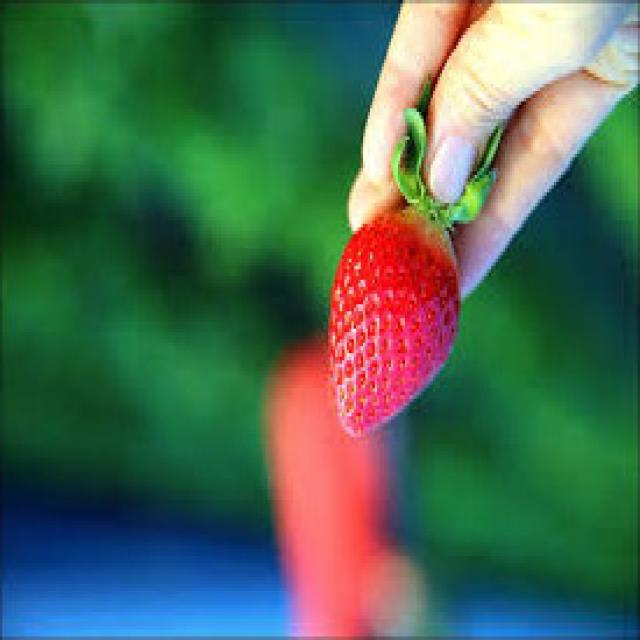mature: (329, 208, 463, 442)
